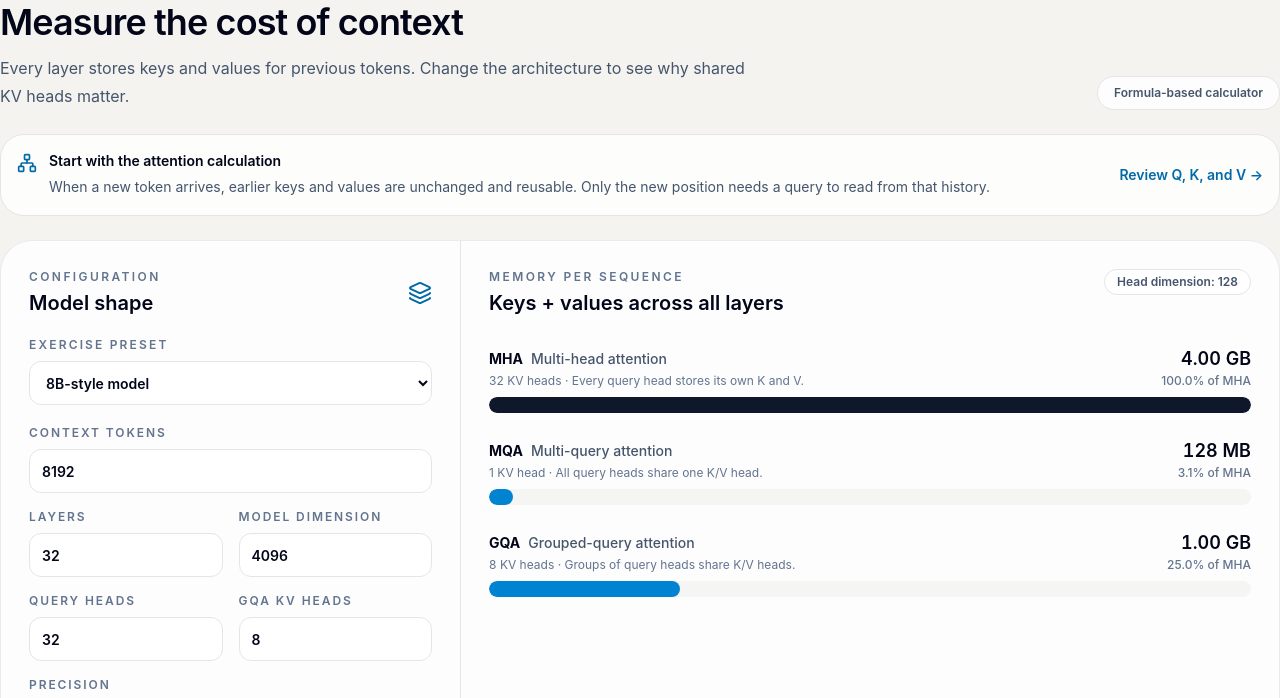
Test: KvCacheLabPage › recalculates memory and reports invalid head geometry
This screenshot has width=1280, height=698.
Expected: the element with test id "kv-cache-result-mha" shows "4.00 GB", [1181,348,1251,369]
Replace the text in the number field with test id "kv-cache-contextLength" with "16384" at (231, 471), box [29,449,432,493]
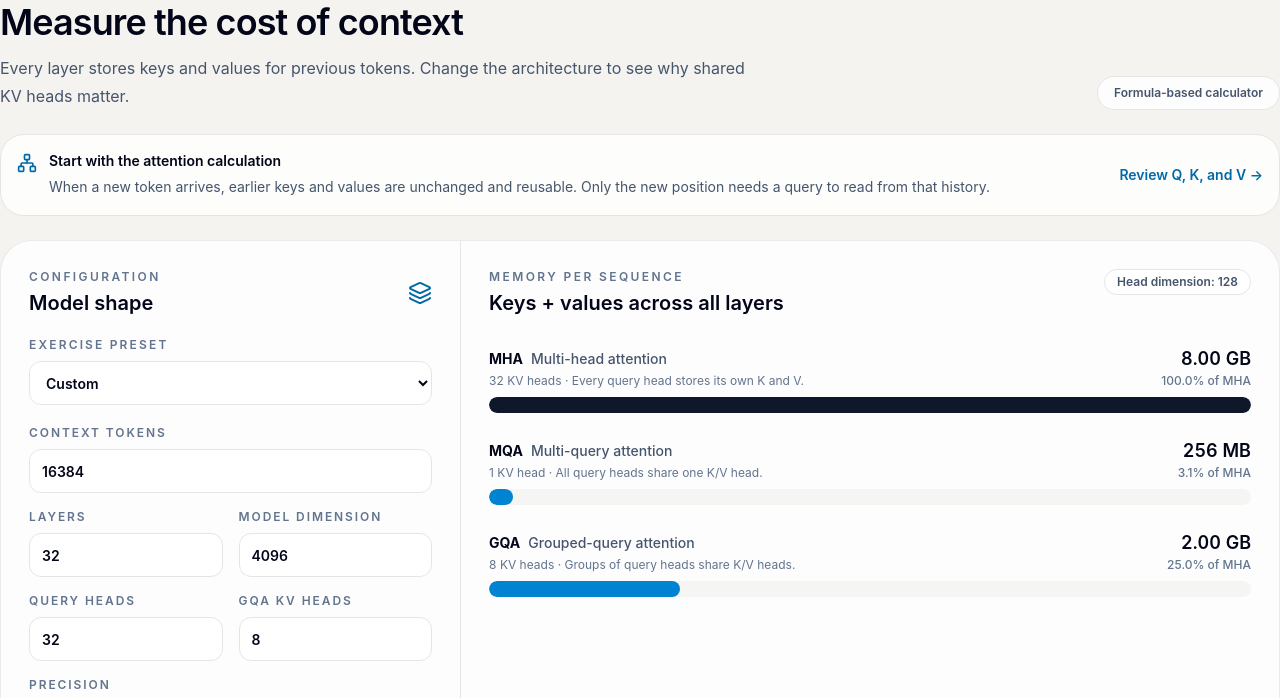
Now the element with test id "kv-cache-result-mha" shows "8.00 GB", box [1181,348,1251,369]
Replace the text in the number field with test id "kv-cache-modelDim" with "4100" at (335, 555), box [238,533,432,577]
(page scrolled)
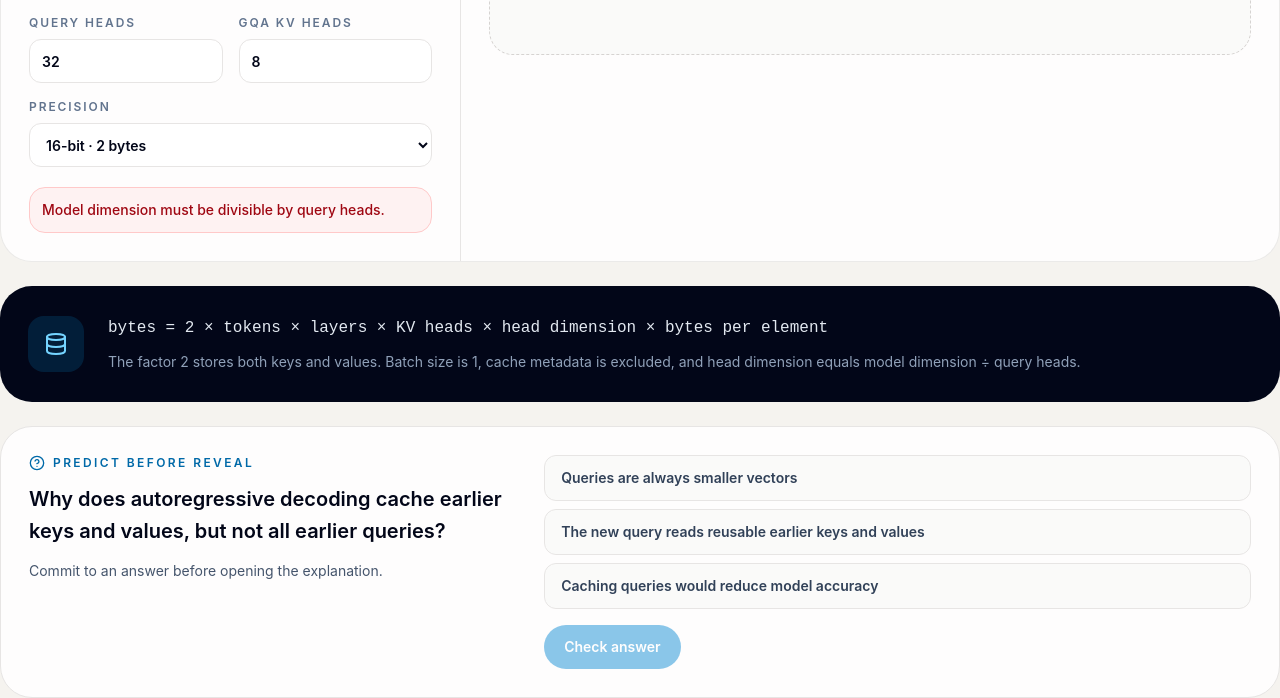
Now the message with test id "kv-cache-error" shows "divisible by query heads", box [42,201,385,218]
Click the button with test id "kv-cache-reuse-choice-reuse".
click(898, 532)  # box [544,509,1251,555]
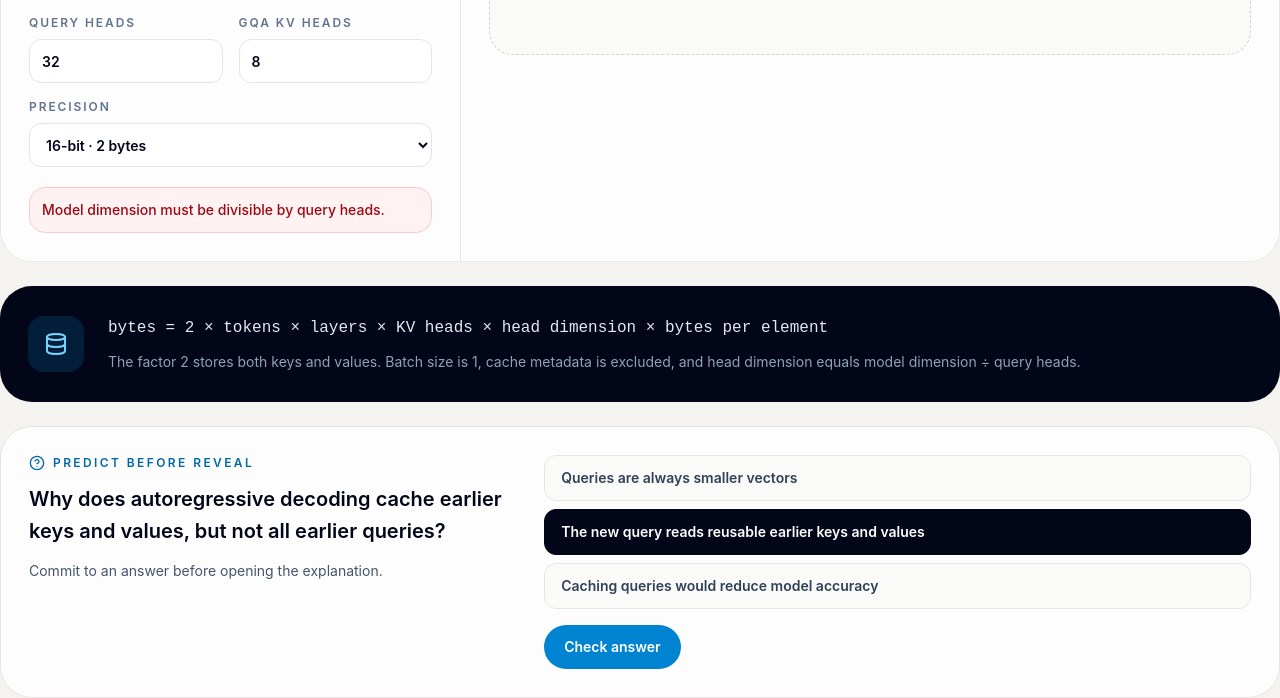
Click the button with test id "kv-cache-reuse-check".
click(612, 647)  # box [544,625,681,669]
(page scrolled)
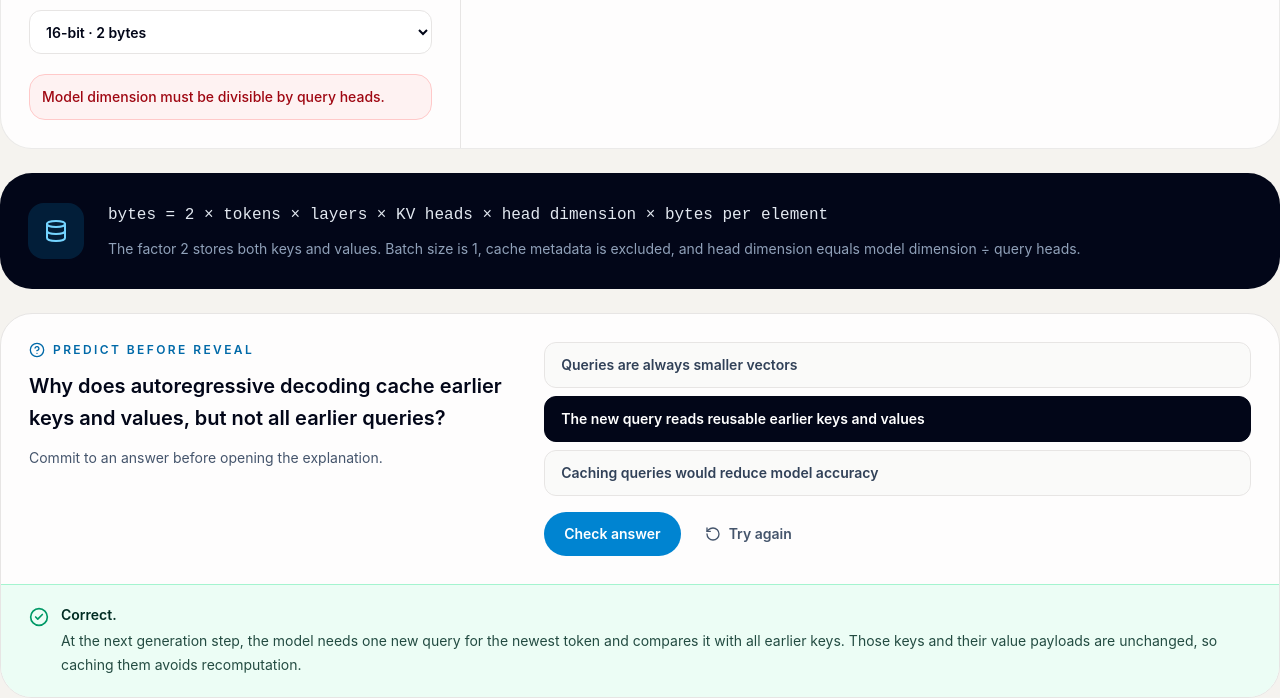
Now the message with test id "kv-cache-reuse-feedback" shows "Correct", box [61,606,117,623]
